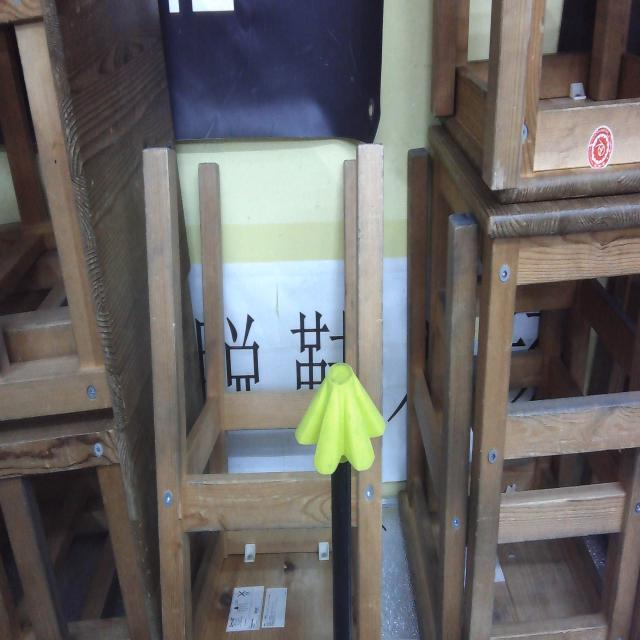Yellow-Stake-Head: (295, 362, 386, 474)
